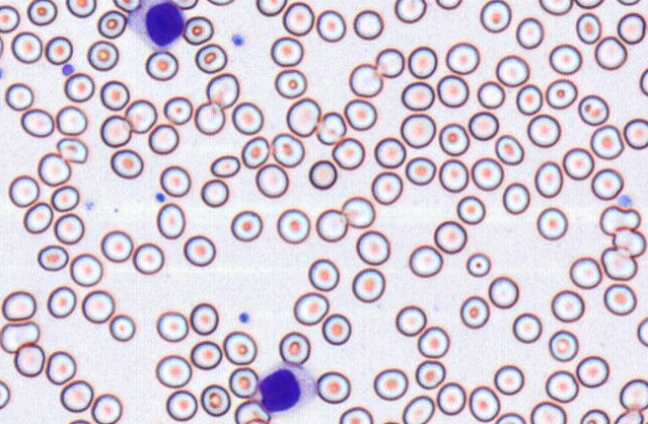MONO: (249, 360, 321, 416), (126, 0, 187, 51)
PLT: (618, 194, 634, 208), (60, 62, 75, 76), (231, 33, 245, 48), (155, 191, 167, 204), (239, 310, 250, 324)
RBC: (286, 97, 320, 137), (355, 229, 390, 265), (600, 246, 637, 280), (155, 354, 192, 388), (400, 113, 435, 148), (293, 291, 329, 325), (205, 72, 239, 108), (276, 208, 310, 244), (351, 267, 385, 302), (348, 63, 383, 97), (590, 124, 624, 159), (222, 330, 256, 365), (468, 385, 500, 422), (316, 370, 350, 404), (526, 113, 560, 147), (594, 35, 627, 70), (255, 163, 288, 198), (373, 367, 408, 400), (271, 132, 304, 167), (124, 98, 157, 133), (408, 244, 442, 277), (575, 355, 609, 388), (37, 152, 70, 186), (59, 379, 93, 412), (81, 289, 114, 323), (69, 252, 102, 286), (433, 220, 467, 253), (315, 208, 348, 242), (550, 289, 584, 322), (331, 136, 364, 170), (545, 369, 578, 403), (445, 41, 479, 74), (13, 342, 45, 377), (370, 170, 402, 205), (282, 1, 314, 36), (534, 160, 563, 198), (569, 256, 602, 289), (100, 229, 133, 262), (436, 74, 469, 107), (495, 54, 529, 86), (231, 101, 263, 135), (343, 98, 377, 130), (341, 196, 375, 228), (278, 331, 310, 365), (536, 206, 568, 240), (45, 350, 76, 385), (1, 290, 36, 321), (156, 202, 185, 239), (159, 164, 191, 197), (373, 136, 406, 168), (591, 167, 623, 200), (471, 157, 503, 190), (307, 258, 339, 291), (562, 147, 594, 180), (230, 209, 262, 242), (417, 325, 449, 358), (603, 283, 636, 315), (612, 226, 646, 257), (194, 101, 225, 135), (548, 43, 582, 74), (165, 389, 197, 421), (132, 242, 164, 274), (183, 234, 215, 266), (156, 310, 188, 342), (479, 0, 511, 32), (145, 50, 178, 81), (8, 174, 39, 207), (110, 148, 143, 179), (100, 114, 131, 147), (86, 40, 119, 71), (438, 122, 469, 155), (316, 111, 346, 145), (20, 107, 54, 137), (438, 158, 468, 192), (436, 381, 466, 415), (395, 304, 426, 336), (53, 212, 84, 244), (147, 123, 179, 154), (11, 31, 42, 63), (545, 78, 577, 109), (577, 94, 609, 125), (240, 135, 270, 168), (23, 201, 53, 234), (488, 275, 518, 308), (401, 81, 434, 111), (459, 295, 489, 328), (200, 384, 230, 417), (407, 45, 437, 78), (194, 43, 227, 73), (274, 68, 307, 98), (46, 285, 76, 318), (316, 9, 346, 42), (270, 36, 303, 66), (493, 364, 524, 395), (548, 329, 578, 361), (228, 366, 258, 398), (321, 313, 351, 345), (90, 393, 122, 423), (55, 105, 87, 135), (190, 340, 222, 370), (401, 394, 434, 423), (189, 302, 218, 335), (63, 72, 94, 102), (468, 110, 499, 140), (512, 312, 542, 343), (182, 15, 213, 45), (494, 134, 524, 165), (617, 12, 646, 44), (502, 181, 530, 214), (515, 16, 543, 49), (415, 359, 445, 389), (97, 9, 127, 39), (353, 9, 383, 39), (405, 156, 436, 185), (619, 378, 647, 410), (308, 159, 337, 189), (44, 35, 73, 65), (100, 80, 129, 110), (375, 47, 404, 77), (163, 95, 192, 125), (515, 83, 542, 115), (36, 244, 68, 271), (200, 178, 229, 207), (456, 195, 485, 224), (4, 82, 33, 111), (575, 12, 601, 44), (530, 400, 566, 423), (50, 184, 79, 212), (476, 80, 505, 108), (26, 0, 57, 25), (623, 117, 647, 149), (108, 313, 135, 341), (394, 0, 426, 23), (210, 154, 240, 178), (465, 251, 491, 277), (338, 406, 373, 423), (0, 4, 20, 32), (65, 0, 96, 17), (538, 0, 573, 15), (255, 0, 287, 16), (579, 408, 609, 423), (614, 409, 644, 423), (494, 412, 526, 423), (112, 0, 141, 12), (636, 316, 647, 346), (0, 380, 10, 409), (435, 0, 462, 10), (575, 0, 604, 9), (170, 0, 198, 9), (639, 67, 647, 96), (243, 417, 269, 424), (206, 0, 235, 6), (616, 0, 640, 6), (67, 418, 92, 423), (0, 35, 4, 58), (380, 420, 401, 424)
Schistocyte: (0, 321, 43, 352), (599, 206, 641, 234), (233, 400, 271, 424), (57, 137, 88, 164)
